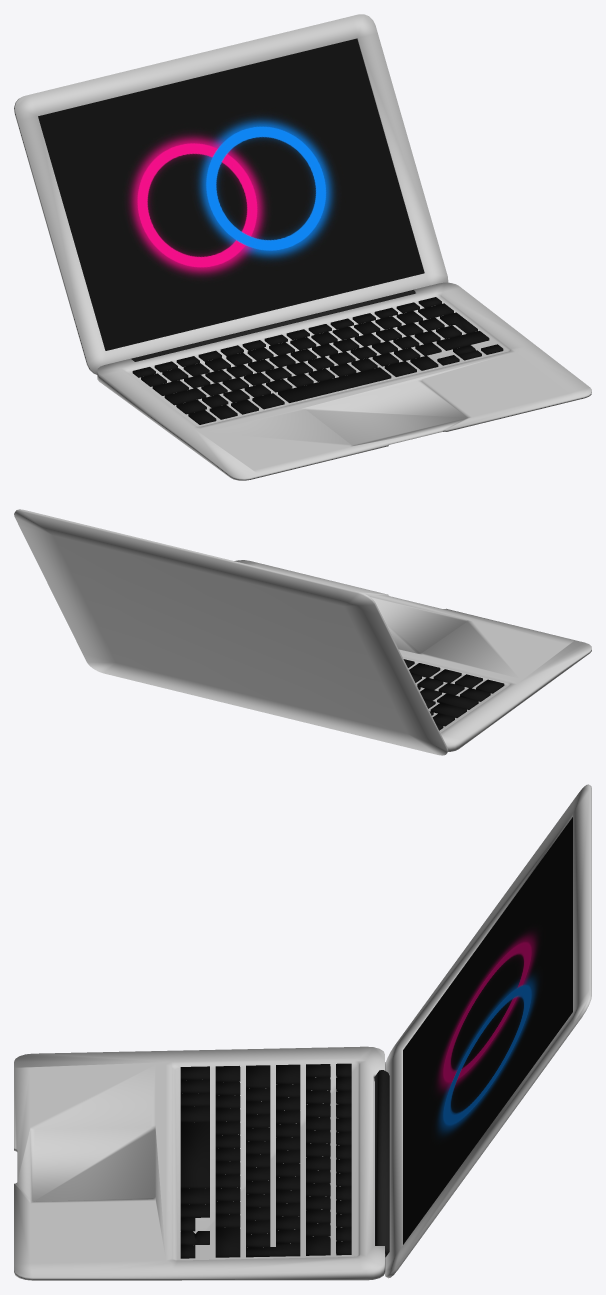
File: laptop.glb
3 views of the same model, one above another, from view 1: azimuth 30°, elevation 25°; view 2: azimuth 150°, elevation 25°; view 3: azimuth 270°, elevation 25° (orthographic). The views are drawn at different scales.
Visible parts, largest first — view 1: Plane; view 2: Plane; view 3: Plane.
Part boxes in pixels (<box>): Plane: <box>14,14,591,480</box>; Plane: <box>14,509,591,755</box>; Plane: <box>14,784,591,1280</box>.
Size of the model in its own units: 32.5 by 19.2 by 35.5.
Materials: 4 (1 with a texture image).
